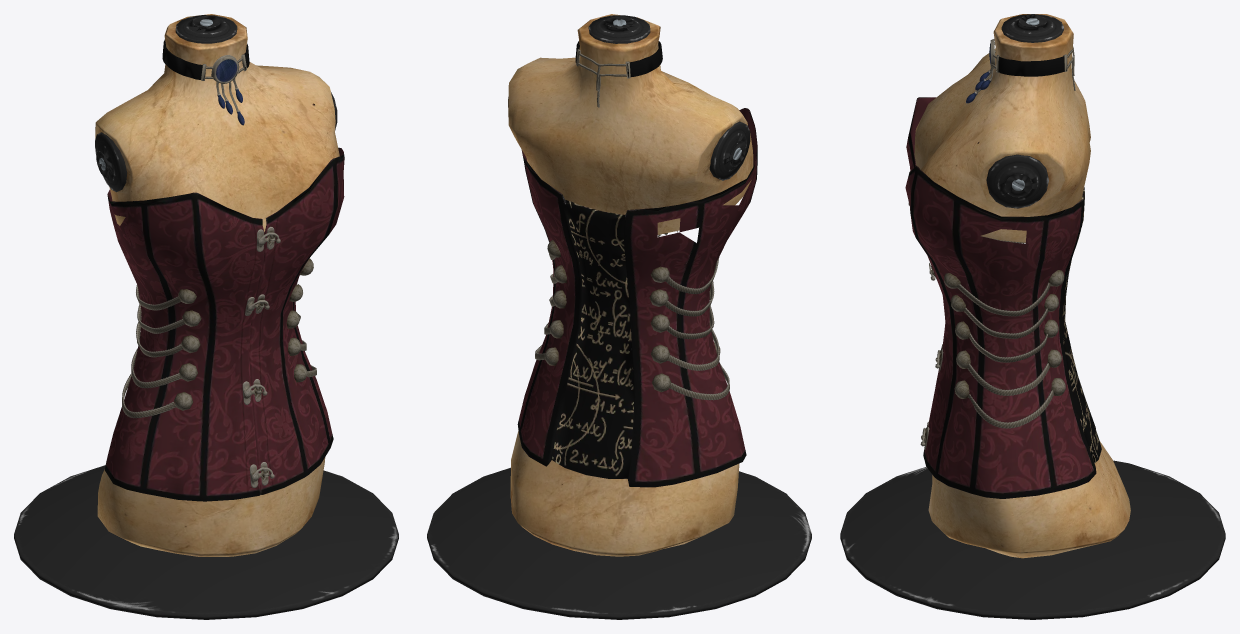
3 views of the same model, side by side, from view 1: azimuth 30°, elevation 25°; view 2: azimuth 150°, elevation 25°; view 3: azimuth 270°, elevation 25° (orthographic).
Visible parts, largest first — view 1: AZHO_Product; view 2: AZHO_Product; view 3: AZHO_Product.
Part boxes in pixels (bbox=[...]): AZHO_Product: bbox=[14, 14, 398, 619]; AZHO_Product: bbox=[427, 14, 811, 619]; AZHO_Product: bbox=[840, 14, 1225, 619].
Bounding box in the file's own units: 0.039 × 0.0578 × 0.039.
Materials: 1 (1 with a texture image).
